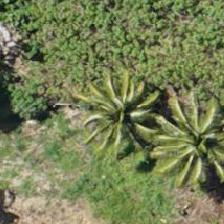coconut_tree: (71, 68, 161, 158), (151, 99, 223, 189)
